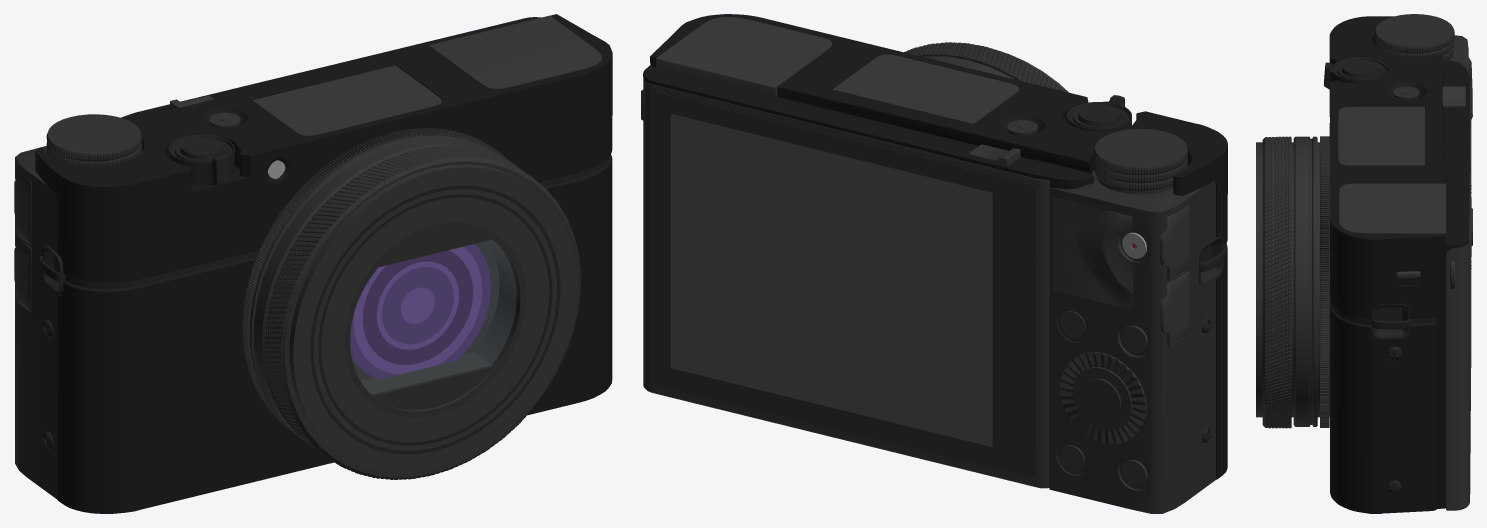
The model's file is sony.glb.
The picture shows the model from 3 angles, left to right: view 1: azimuth 30°, elevation 25°; view 2: azimuth 150°, elevation 25°; view 3: azimuth 270°, elevation 25°; orthographic projection. The views are drawn at different scales.
Parts seen in each view (by area): view 1: Cube, Cylinder.004, Tessellation, Cylinder.011, Cube.009, Cube.004, Cube.003, Cylinder.001, Tessellation.001, Cube.014, Gear, Cylinder.005 (+5 smaller); view 2: Cube.008, Cube.009, Cube, Cube.005, Cube.004, Cube.001, Cylinder.012, Cube.003, Cylinder.009, Tessellation.001, Tessellation, Cylinder.005 (+4 smaller); view 3: Cube, Cube.007, Tessellation, Cylinder.001, Cube.001, Cube.005, Cube.004, Cube.003, Cylinder.004, Tessellation.001, Gear, Cylinder.005 (+5 smaller).
Boxes of the visible parts, x1=… form: Cube: x1=35, y1=14, x2=612, y2=513; Cylinder.004: x1=289, y1=164, x2=577, y2=472; Tessellation: x1=265, y1=145, x2=580, y2=479; Cylinder.011: x1=350, y1=244, x2=490, y2=379; Cube.009: x1=15, y1=146, x2=57, y2=499; Cube.004: x1=428, y1=15, x2=601, y2=89; Cube.003: x1=252, y1=65, x2=442, y2=135; Cylinder.001: x1=250, y1=135, x2=502, y2=443; Tessellation.001: x1=46, y1=114, x2=141, y2=166; Cube.014: x1=360, y1=352, x2=493, y2=410; Gear: x1=242, y1=128, x2=510, y2=432; Cylinder.005: x1=168, y1=134, x2=234, y2=185; Cube.008: x1=651, y1=92, x2=1036, y2=476; Cube.009: x1=1049, y1=170, x2=1215, y2=513; Cube: x1=650, y1=14, x2=1227, y2=479; Cube.005: x1=643, y1=79, x2=1049, y2=488; Cube.004: x1=656, y1=17, x2=832, y2=97; Cube.001: x1=643, y1=65, x2=1093, y2=189; Cylinder.012: x1=1053, y1=197, x2=1133, y2=309; Cube.003: x1=832, y1=54, x2=1019, y2=124; Cylinder.009: x1=1059, y1=352, x2=1146, y2=444; Tessellation.001: x1=1094, y1=129, x2=1187, y2=194; Tessellation: x1=904, y1=42, x2=1065, y2=91; Cylinder.005: x1=1066, y1=95, x2=1131, y2=131; Cube: x1=1329, y1=16, x2=1445, y2=513; Cube.007: x1=1381, y1=322, x2=1436, y2=513; Tessellation: x1=1262, y1=136, x2=1291, y2=428; Cylinder.001: x1=1293, y1=136, x2=1317, y2=426; Cube.001: x1=1436, y1=60, x2=1470, y2=508; Cube.005: x1=1446, y1=80, x2=1470, y2=510; Cube.004: x1=1339, y1=183, x2=1446, y2=241; Cube.003: x1=1338, y1=106, x2=1424, y2=165; Cylinder.004: x1=1256, y1=142, x2=1329, y2=417; Tessellation.001: x1=1374, y1=14, x2=1454, y2=62; Gear: x1=1320, y1=136, x2=1329, y2=427; Cylinder.005: x1=1324, y1=57, x2=1387, y2=89.
Bounding box in the file's own units: 5 × 2.9 × 2.01.
